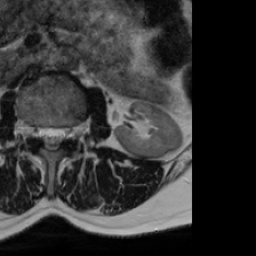CCS_normal: (47, 118, 56, 158)
LFS_normal: (65, 116, 75, 147)
LLS_normal: (56, 118, 65, 154)
RFS_normal: (29, 115, 38, 147)
RLS_normal: (38, 118, 47, 151)
